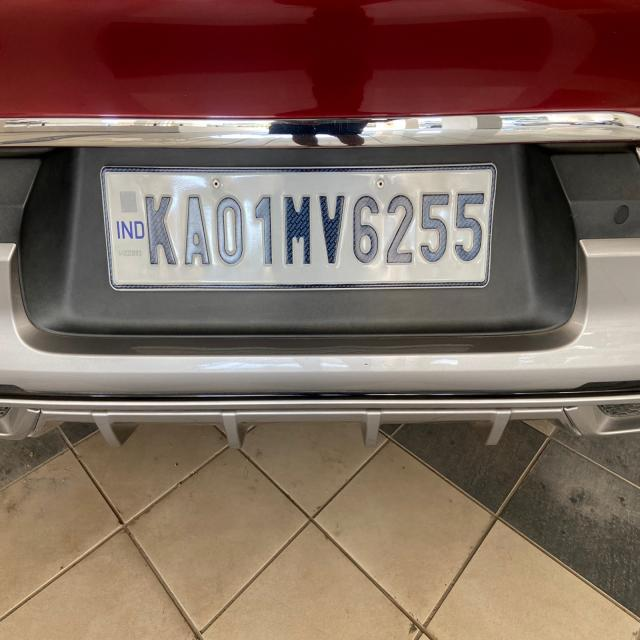0: (212, 191, 249, 267)
1: (252, 192, 279, 268)
5: (451, 185, 490, 274), (417, 182, 449, 266)
6: (350, 196, 385, 271)
A: (180, 184, 214, 270)
K: (141, 179, 181, 272)
M: (280, 196, 317, 270)
V: (318, 192, 349, 274)
